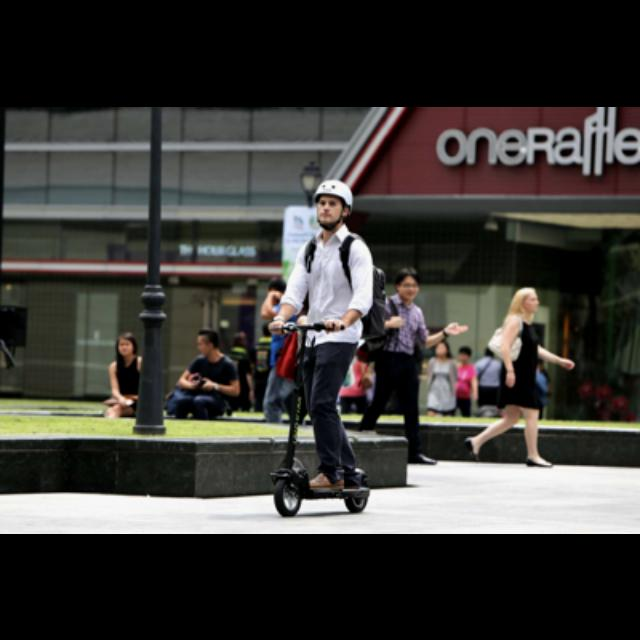With Helmet: (306, 167, 360, 237)
